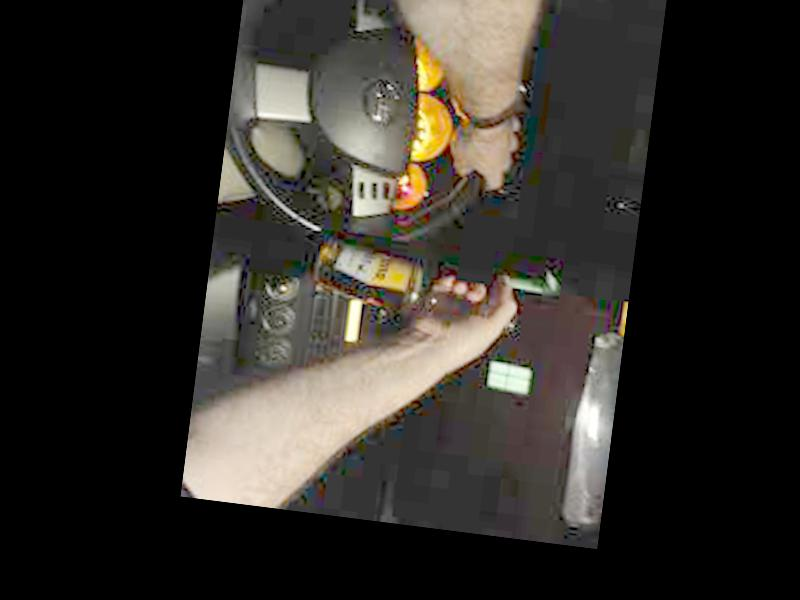Beer: (312, 231, 522, 336)
